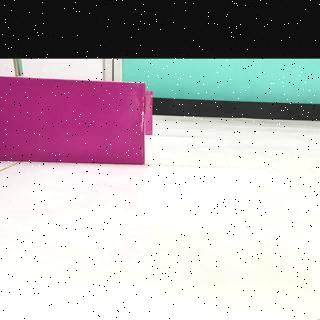xparking: (4, 84, 144, 166)
